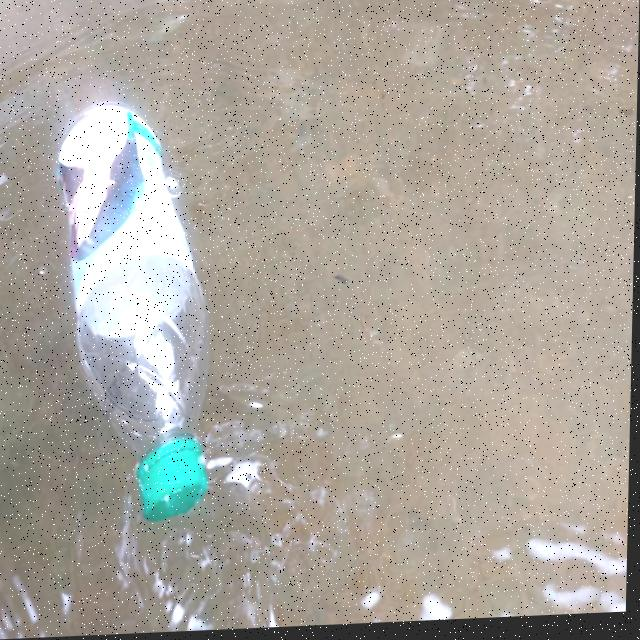waterbottle: (43, 87, 228, 541)
